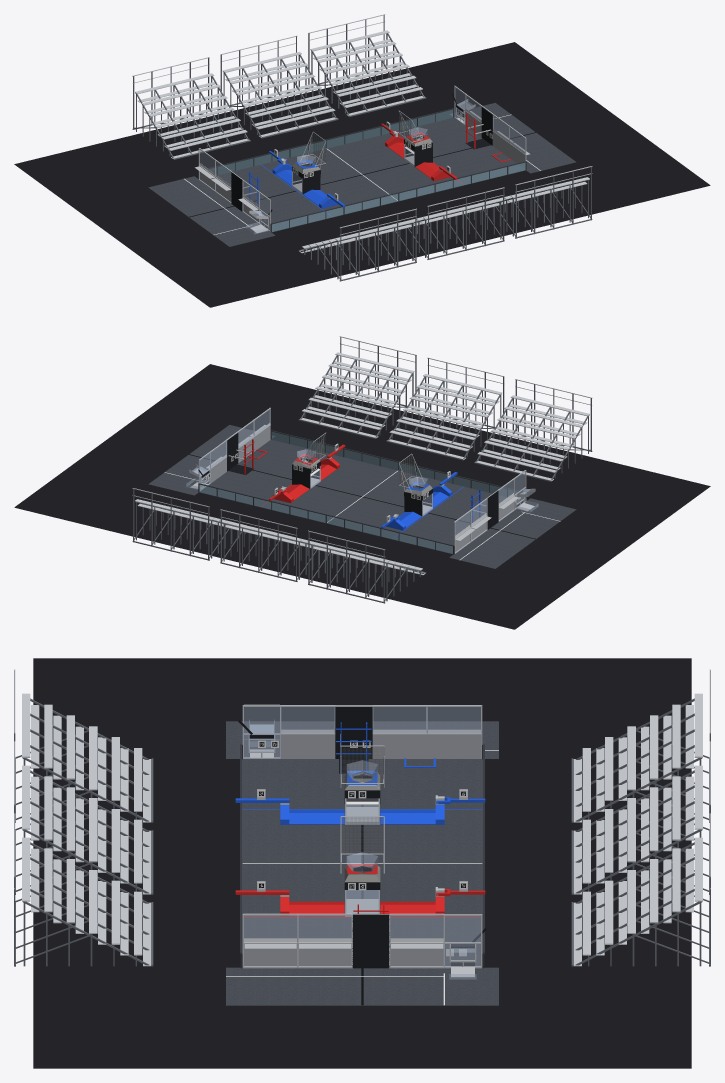
File: field.glb
The picture shows the model from 3 angles, top to bottom: view 1: azimuth 30°, elevation 25°; view 2: azimuth 150°, elevation 25°; view 3: azimuth 270°, elevation 25°; orthographic projection. The views are drawn at different scales.
Visible parts, largest first — view 1: Surrounding floor, Carpet (×5), railPoly (×2), poly (×2), aluminium (×2), darkSteel (×2), diamond, black; view 2: Surrounding floor, Carpet (×5), railPoly (×2), poly (×2), aluminium (×2), darkSteel (×2), diamond, black; view 3: Surrounding floor, Carpet (×5), poly (×4), diamond (×2), aluminium (×4), black (×2), net back (×2), white (×2), blue (×2), red (×2).
Part boxes in pixels (x1,y1,x2,y2): Surrounding floor: (14, 42, 710, 307); Carpet (×5): (132, 14, 592, 281); railPoly (×2): (209, 109, 525, 231); poly (×2): (200, 87, 524, 233); aluminium (×2): (194, 85, 530, 233); darkSteel (×2): (198, 108, 526, 232); diamond: (465, 111, 525, 168); black: (292, 163, 320, 194); Surrounding floor: (14, 364, 710, 629); Carpet (×5): (132, 336, 592, 603); railPoly (×2): (199, 431, 524, 553); poly (×2): (186, 409, 538, 534); aluminium (×2): (189, 407, 535, 553); darkSteel (×2): (198, 430, 526, 554); diamond: (210, 425, 270, 482); black: (404, 485, 432, 516); Surrounding floor: (33, 658, 691, 1068); Carpet (×5): (14, 669, 710, 1005); poly (×4): (243, 705, 481, 979); diamond (×2): (244, 734, 481, 967); aluminium (×4): (242, 704, 482, 977); black (×2): (335, 707, 389, 968); net back (×2): (342, 746, 382, 853); white (×2): (244, 729, 480, 956); blue (×2): (289, 810, 435, 824); red (×2): (289, 901, 435, 916).
Size of the model in its own units: 32.54 by 3.4 by 23.37.
28 materials, 2 textured.
